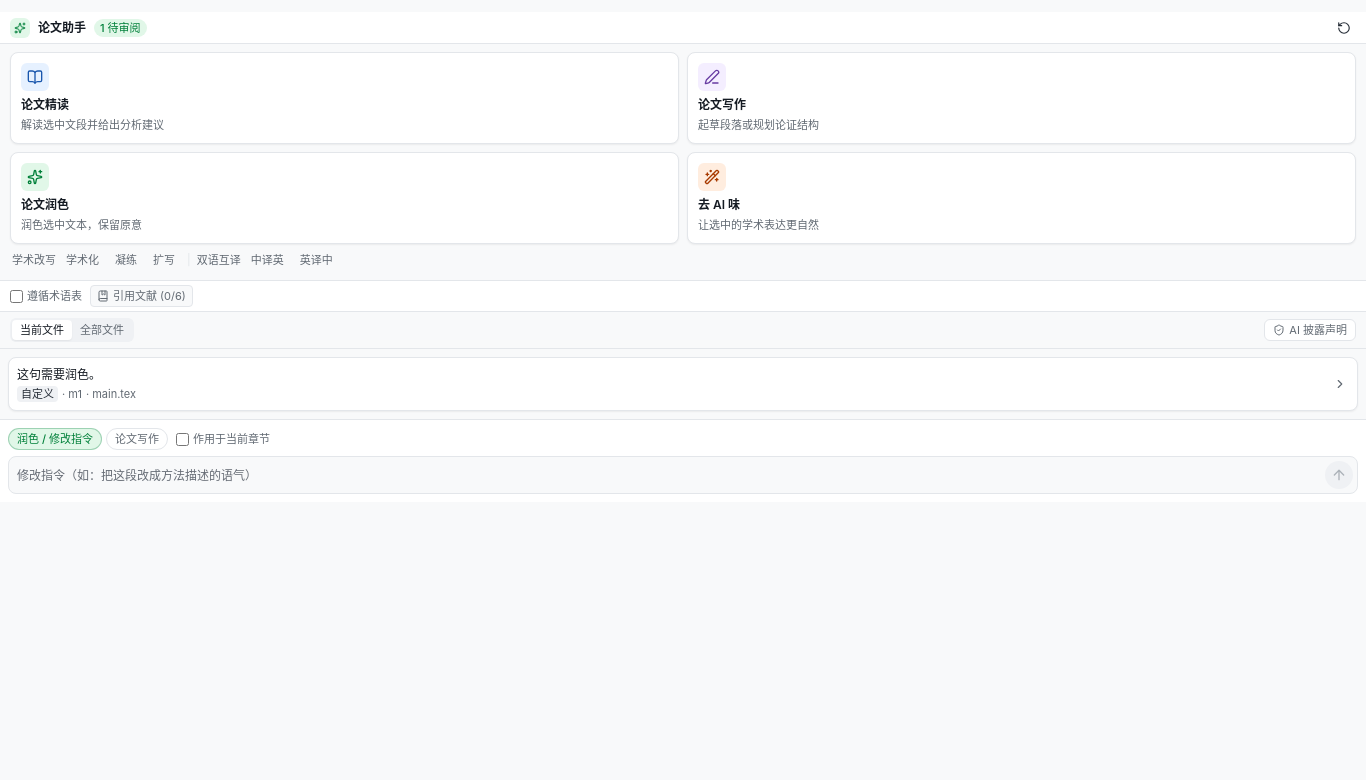
it: ProposalPanel › 修复类提案采纳后自动重编译验证并提示结果
Click the button named "展开差异" at (1340, 384), box [1331,375,1349,393]
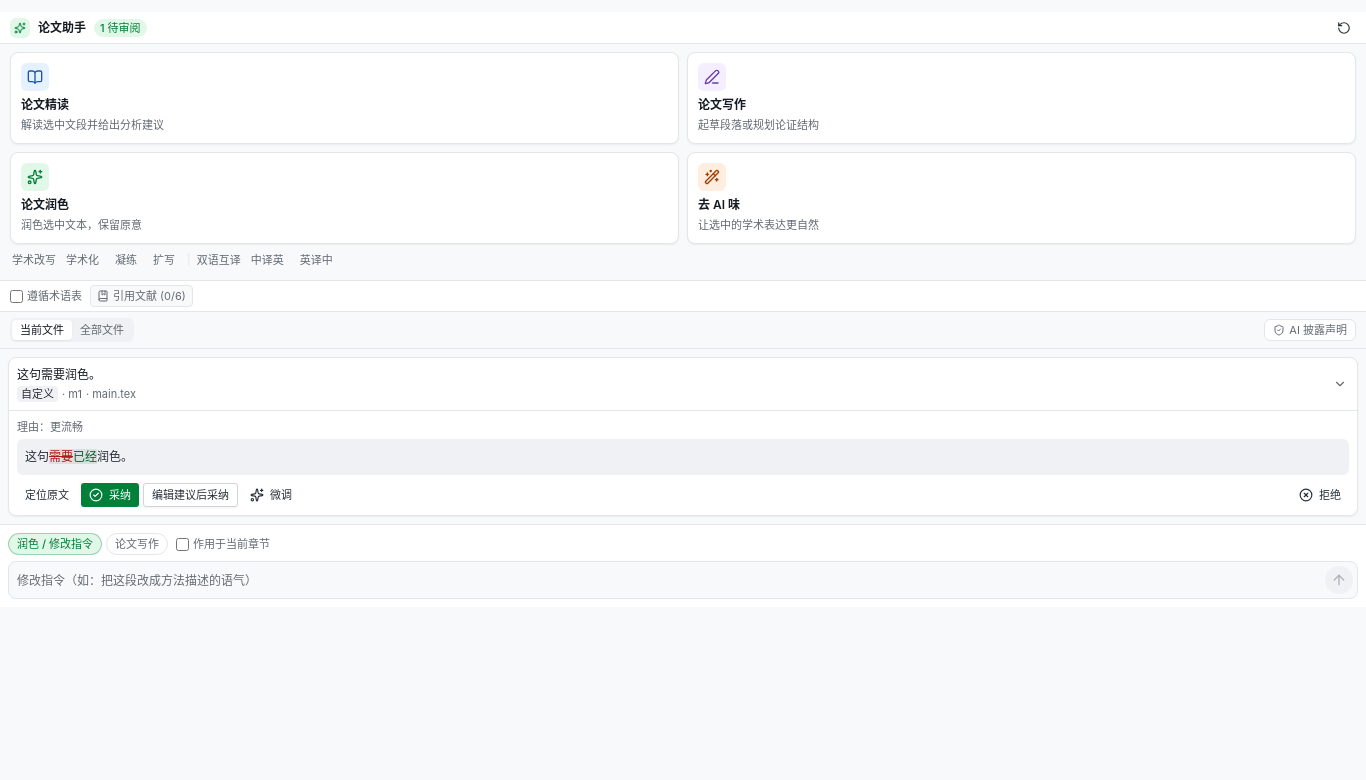
Click the button with test id "proposal-apply-pp_aaaaaaaaaaaa" at (110, 495), box [81,483,139,507]
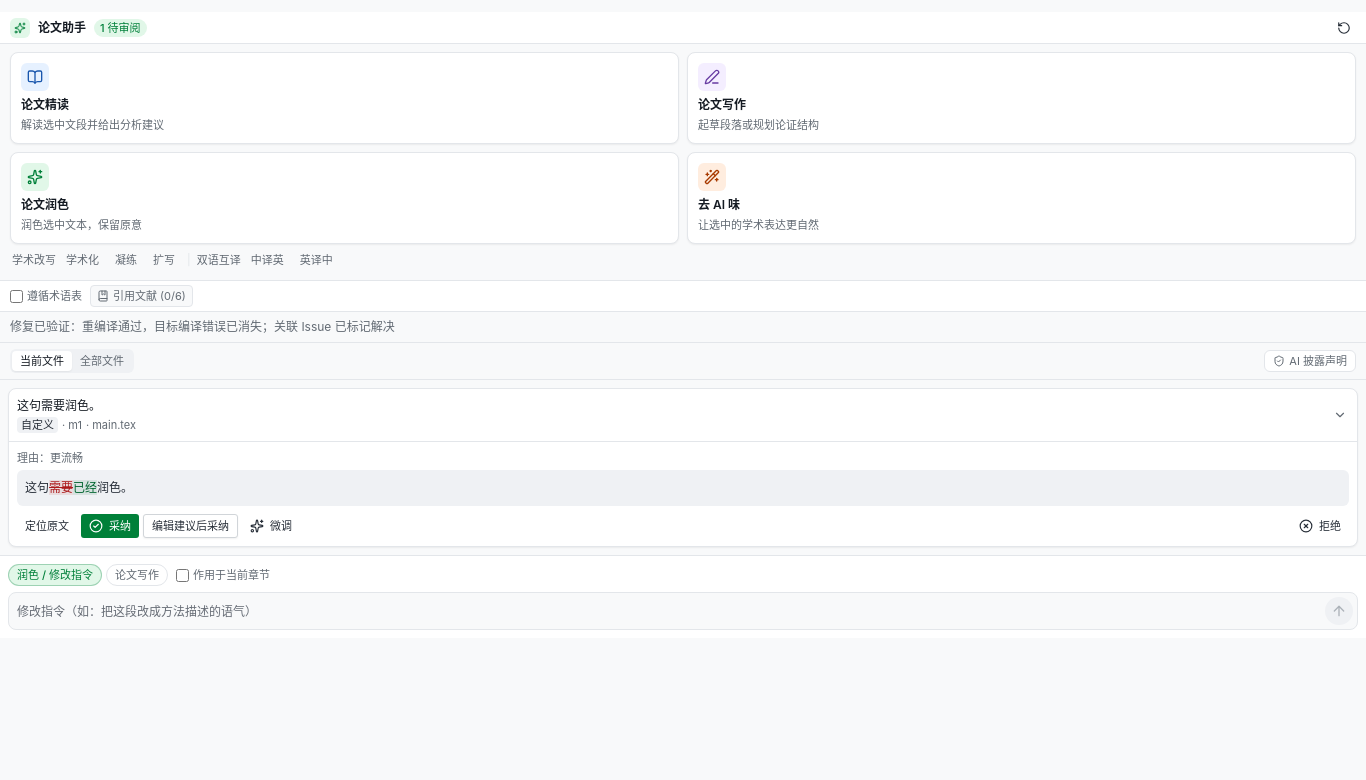
Check: the message with test id "proposal-notice" shows "目标编译错误已消失", box [10,319,395,334]
